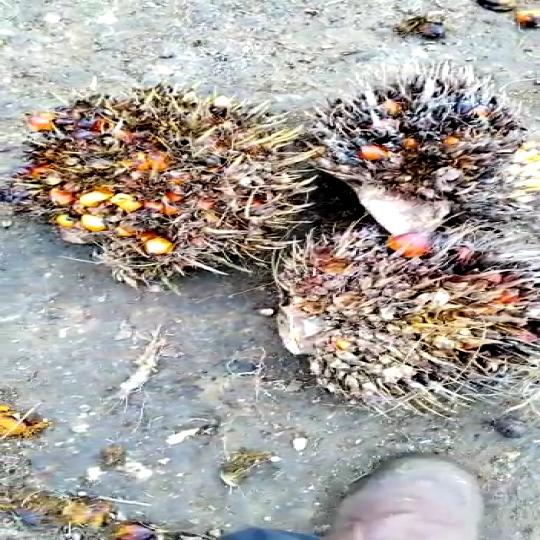terlalu masak: (0, 79, 338, 280), (271, 239, 540, 411), (320, 76, 540, 233)
